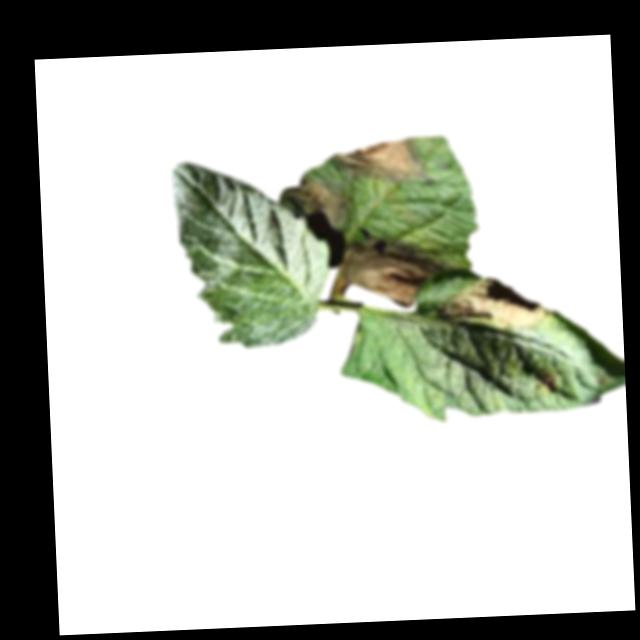Late_blight: (336, 236, 451, 312), (437, 273, 551, 334), (330, 134, 433, 189), (283, 175, 354, 233), (532, 367, 557, 393)
healthy: (167, 154, 334, 352)
